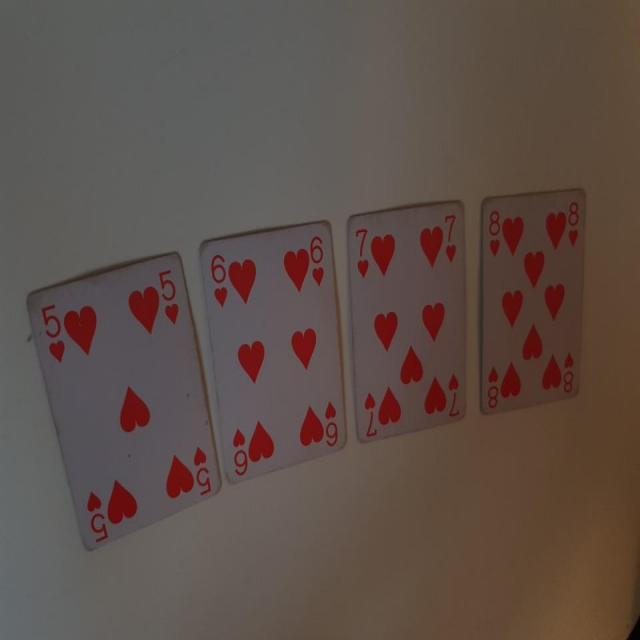5 Hearts: (24, 244, 227, 569)
6 Hearts: (197, 214, 353, 481)
7 Hearts: (344, 197, 471, 442)
8 Hearts: (479, 184, 591, 423)
